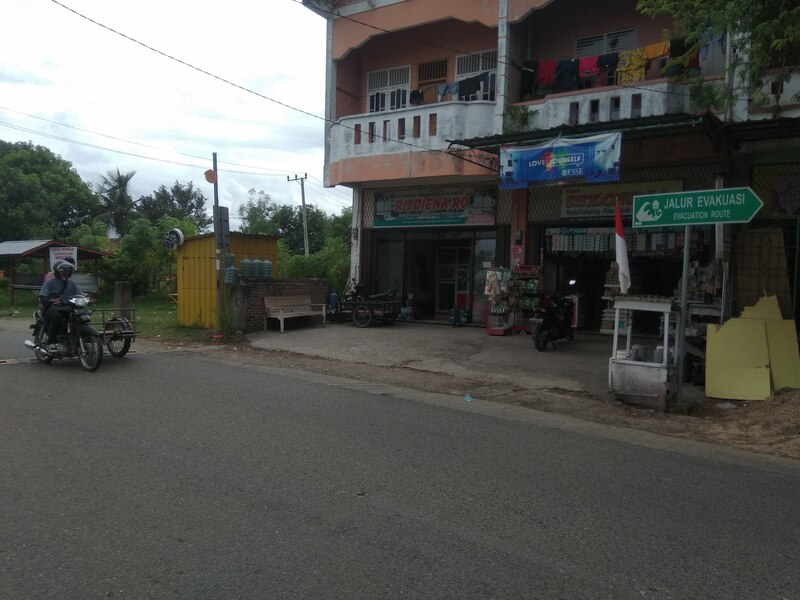becak barang: (25, 294, 141, 375), (334, 276, 403, 331)
